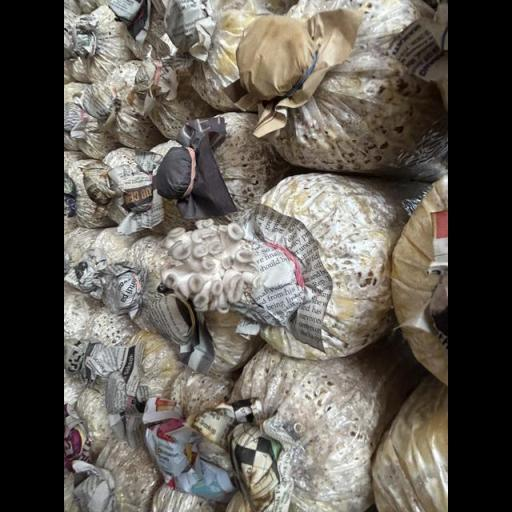White Oyster Mushroom: (156, 217, 264, 317)
